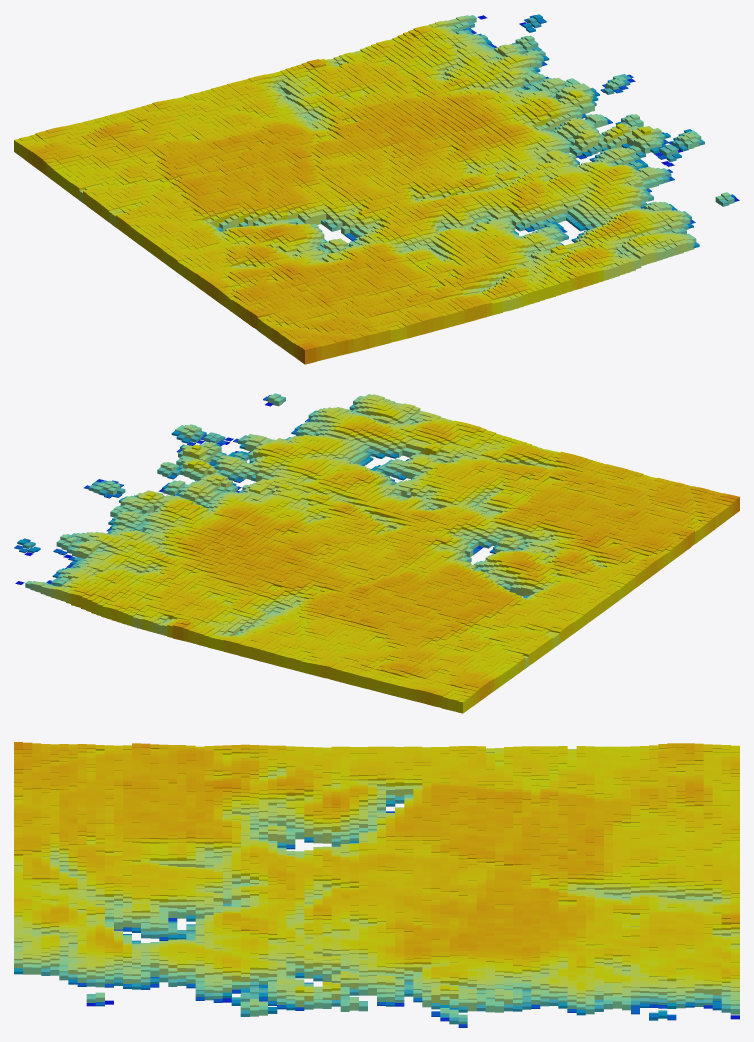
File: population.glb
3 renders of one model, top to bottom at view 1: azimuth 30°, elevation 25°; view 2: azimuth 150°, elevation 25°; view 3: azimuth 270°, elevation 25°, orthographic. The views are drawn at different scales.
Parts seen in each view (by area): view 1: population; view 2: population; view 3: population.
Part boxes in pixels (x1,y1,x2,y2): population: (14, 14, 739, 364); population: (14, 393, 739, 713); population: (14, 742, 739, 1027).
Bounding box in the file's own units: 7988 × 636 × 7935.
